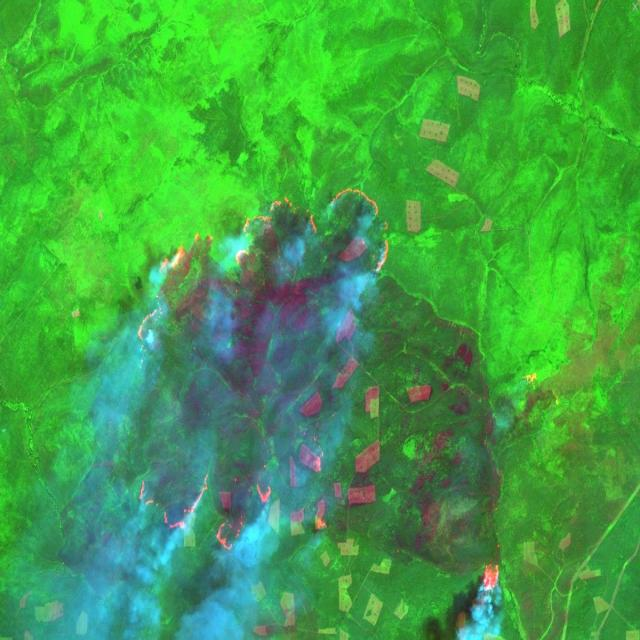fire: (130, 174, 396, 356), (133, 465, 284, 568), (468, 558, 509, 612)
